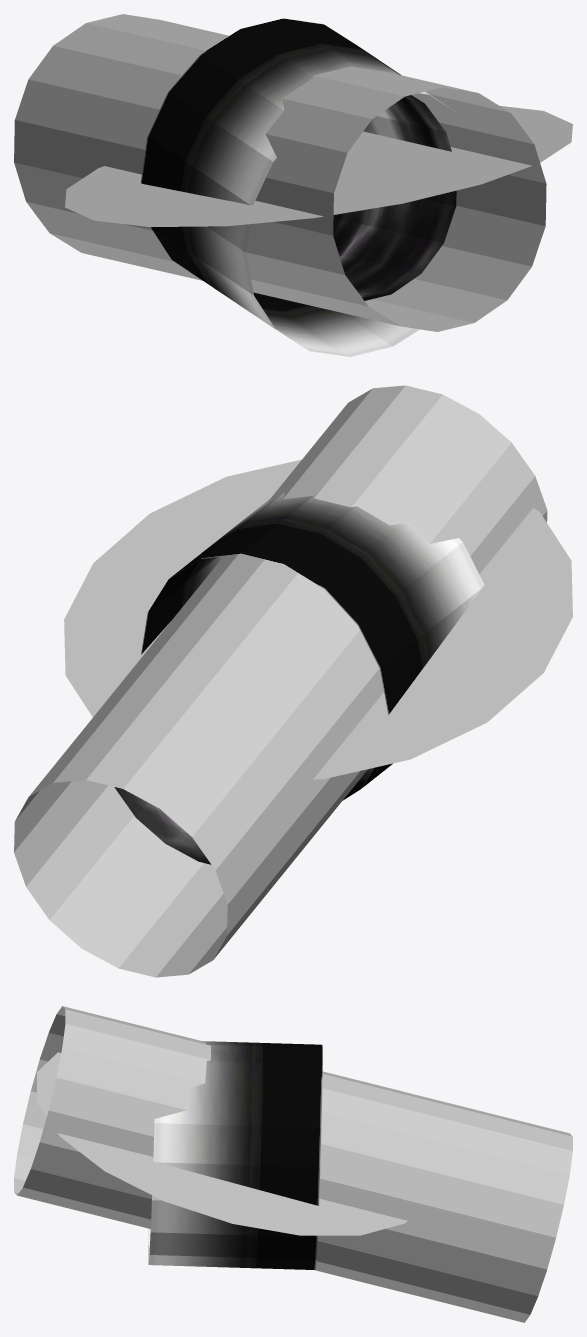
Rendered from effect_xinglingjuexing_donghua.fbx.
The picture shows the model from 3 angles, top to bottom: view 1: azimuth 30°, elevation 25°; view 2: azimuth 150°, elevation 25°; view 3: azimuth 270°, elevation 25°; orthographic projection. The views are drawn at different scales.
Parts seen in each view (by area): view 1: effect_yuan_103_mo_UP, effect_yuan_103_mo (1), effect_aolabeibei_baoqi_01, effect_yuan_103_mo (2); view 2: effect_yuan_103_mo_UP, effect_aolabeibei_baoqi_01, effect_yuan_103_mo (1), effect_yuan_103_mo (2); view 3: effect_yuan_103_mo_UP, effect_yuan_103_mo (1), effect_aolabeibei_baoqi_01.
Part boxes in pixels (left/top/right/bottom): effect_yuan_103_mo_UP: left=14, top=14, right=546, bottom=331; effect_yuan_103_mo (1): left=141, top=18, right=453, bottom=356; effect_aolabeibei_baoqi_01: left=65, top=105, right=572, bottom=226; effect_yuan_103_mo (2): left=333, top=95, right=456, bottom=300; effect_yuan_103_mo_UP: left=14, top=385, right=547, bottom=977; effect_aolabeibei_baoqi_01: left=64, top=459, right=572, bottom=779; effect_yuan_103_mo (1): left=141, top=492, right=484, bottom=800; effect_yuan_103_mo (2): left=114, top=787, right=211, bottom=864; effect_yuan_103_mo_UP: left=14, top=1006, right=572, bottom=1322; effect_yuan_103_mo (1): left=148, top=1041, right=322, bottom=1269; effect_aolabeibei_baoqi_01: left=37, top=1052, right=407, bottom=1235.
Size of the model in its own units: 4.71 by 3.72 by 6.37.
